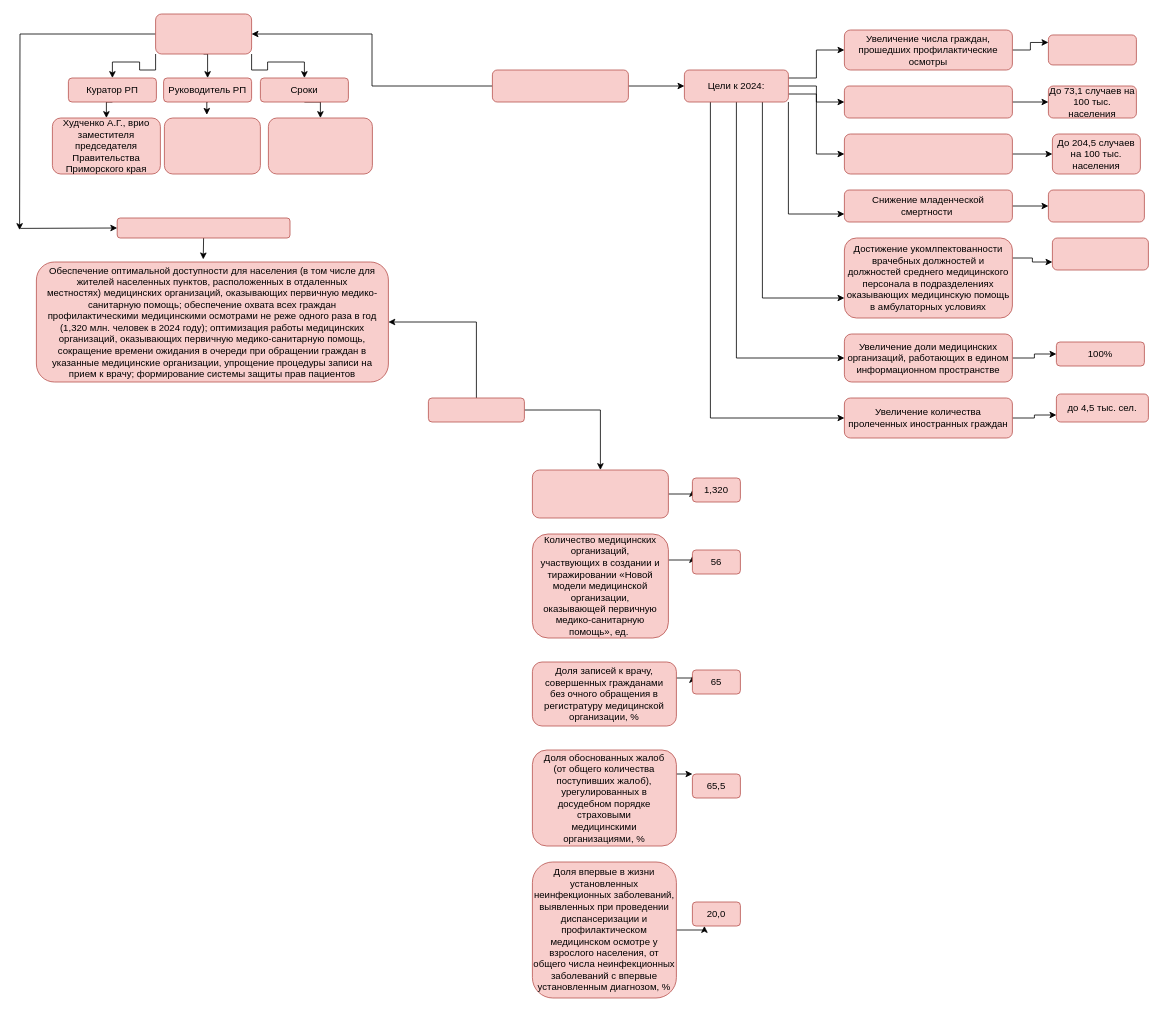
Some shapes in this 1162 by 1012 pixel diagram are drawn without their labels. Each missing label, with the centre of its shape:
1 января 2019 г- 31 декабря 2024 г: (x=320, y=145)
Бардовский А.В., заместитель министра здравоохранения Приморского края: (x=212, y=145)
До 1,320 млн. чел: (x=1092, y=49)
до 4,5 на 1 тыс. родившихся детей: (x=1096, y=205)
До 90,9 и 95%: (x=1100, y=253)
Показатели на 2024 год:: (x=476, y=409)
Региональные проекты Приморского края: (x=560, y=85)
РП "Здравоохранение": (x=203, y=33)
Снижение смертности от инфаркта миокарда: (x=928, y=101)
Снижение смертности от новообразований, в том числе от злокачественных: (x=928, y=153)
Цель на 2024 год:: (x=203, y=227)
Число граждан, прошедших профилактические осмотры, млн. чел: (x=600, y=493)
